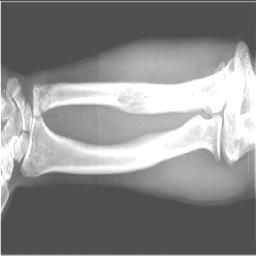cancer: (115, 62, 231, 113)
